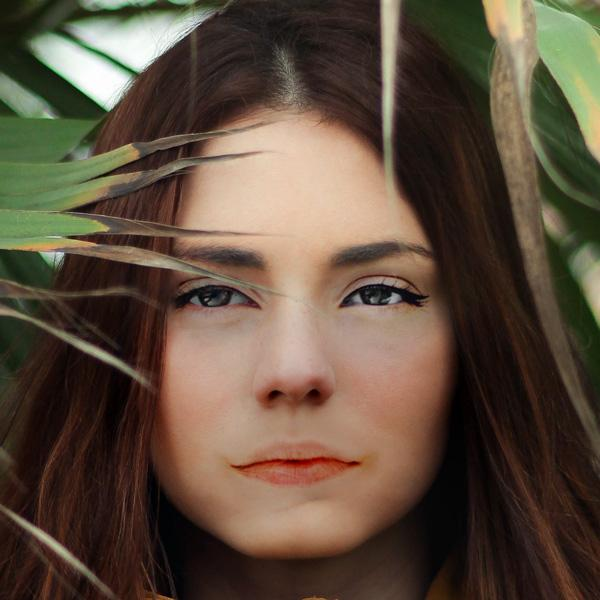Eyes: (163, 269, 266, 322), (331, 270, 428, 321)
